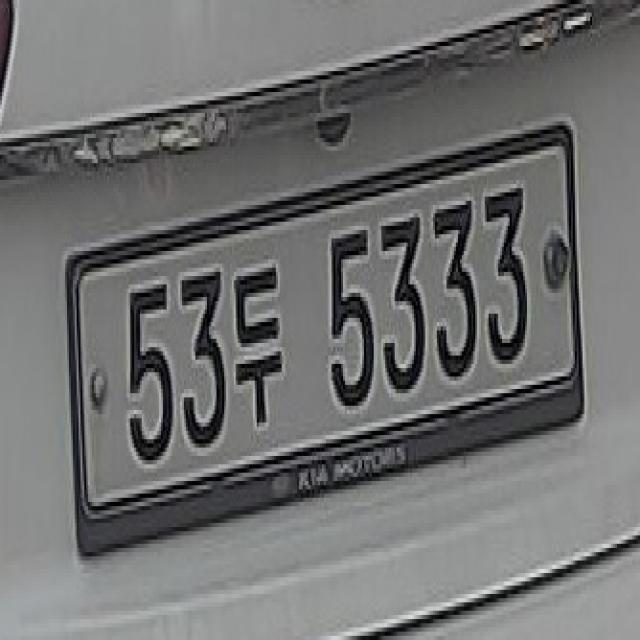3: (481, 180, 544, 381), (427, 188, 485, 393), (376, 218, 431, 406), (169, 276, 228, 448)
5: (123, 276, 182, 473), (324, 213, 374, 406)
du: (224, 268, 290, 435)
license_plate: (58, 79, 592, 590)
